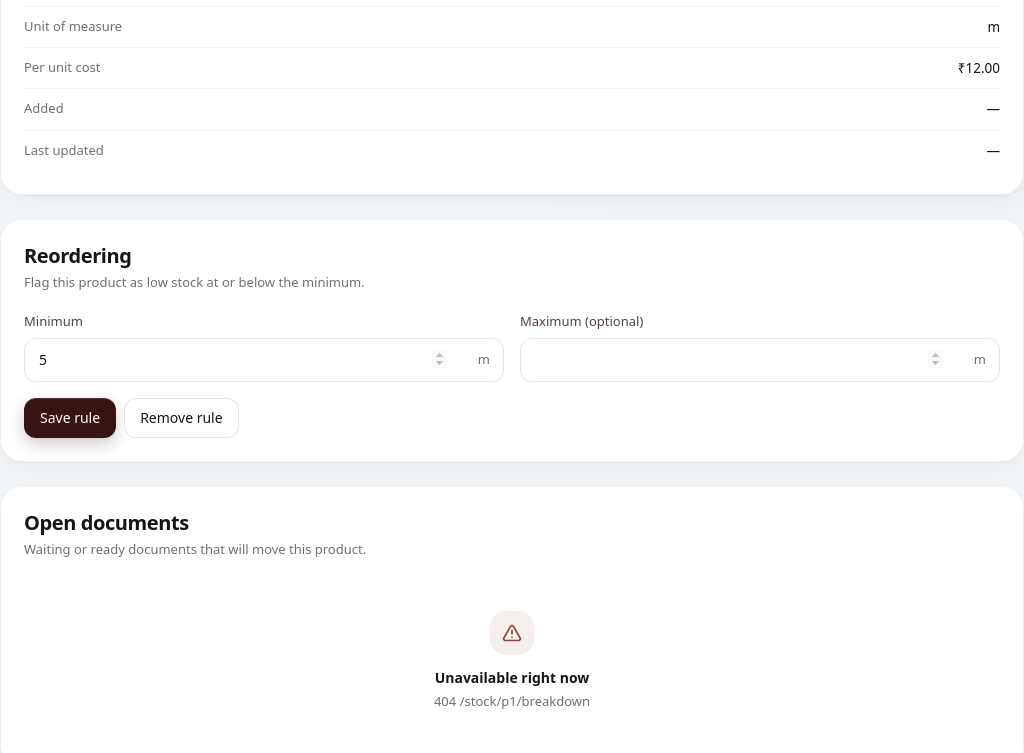
ProductFormPage archived state › shows why removing a reorder rule failed (e.g. a STAFF user gets 403)
The image size is (1024, 753).
(page scrolled)
Click the button "Remove rule" at (181, 418), box [124,398,239,438]
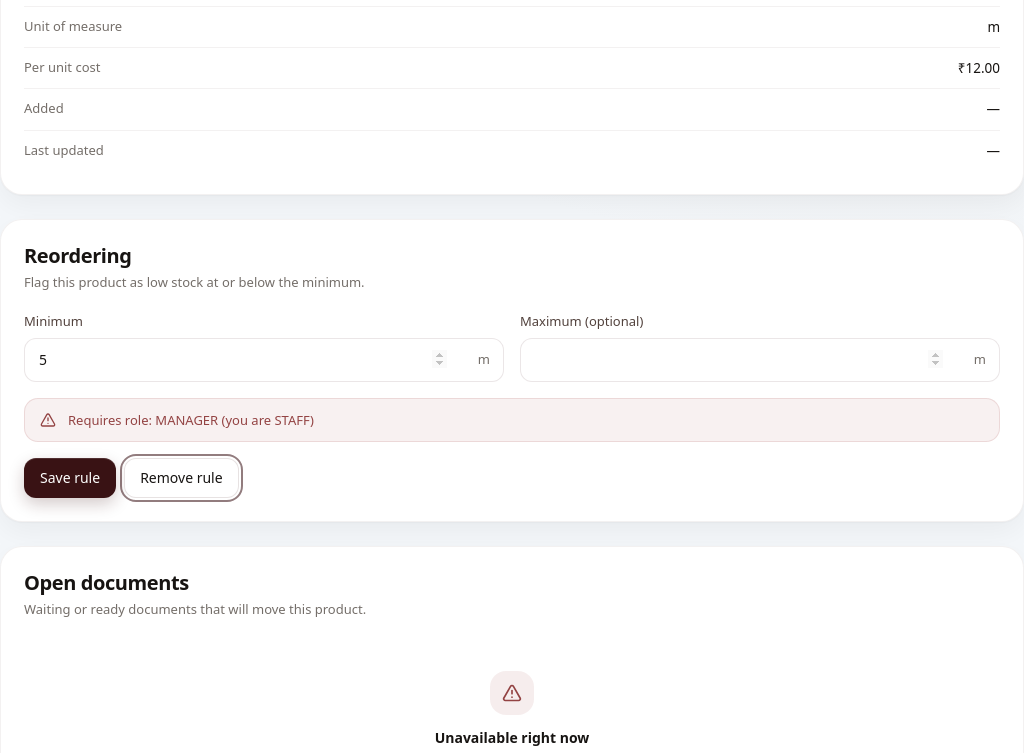
Now the text "Requires role: MANAGER (you are STAFF)" is shown, box [68,411,314,429]
